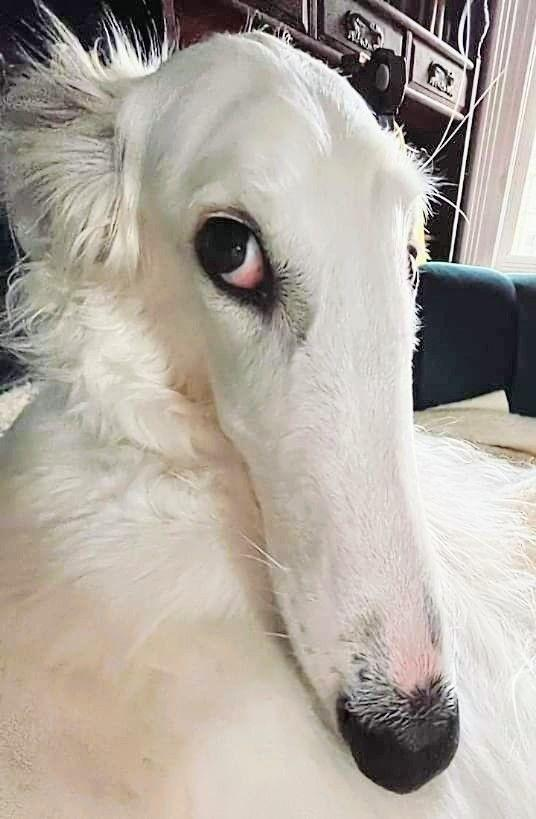adult_dog: (0, 11, 536, 819)
